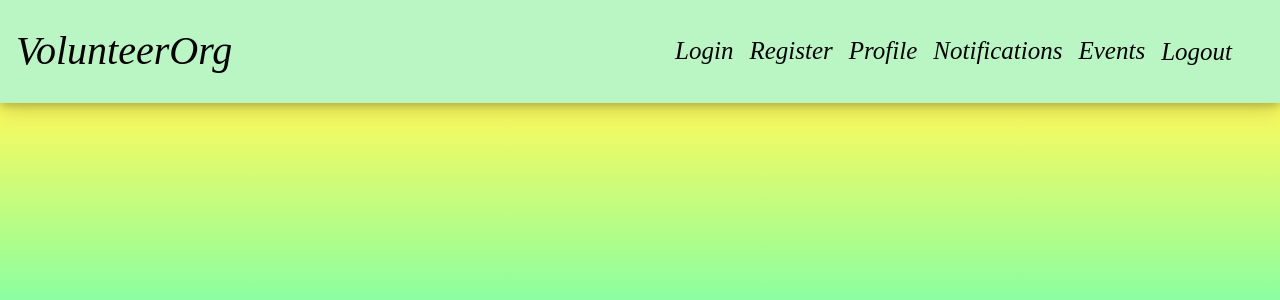
Test: Navigation Component › handles logout error correctly
Click the button "Logout" at coordinates (1197, 52), box 1161,33 -> 1232,70
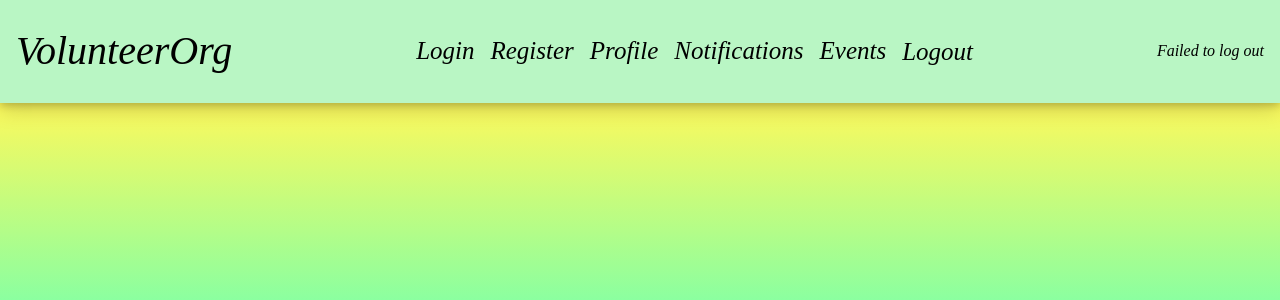
Expected: the text "Failed to log out" is shown, 1157,39 -> 1264,63
